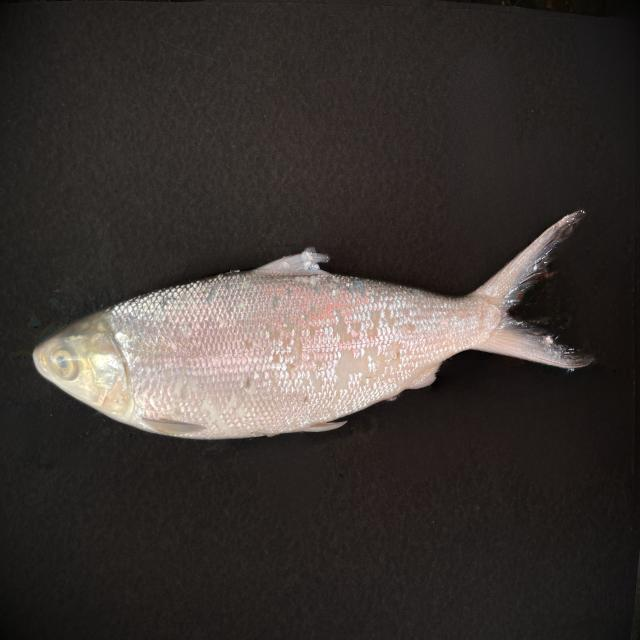1040 g: (32, 210, 596, 440)
